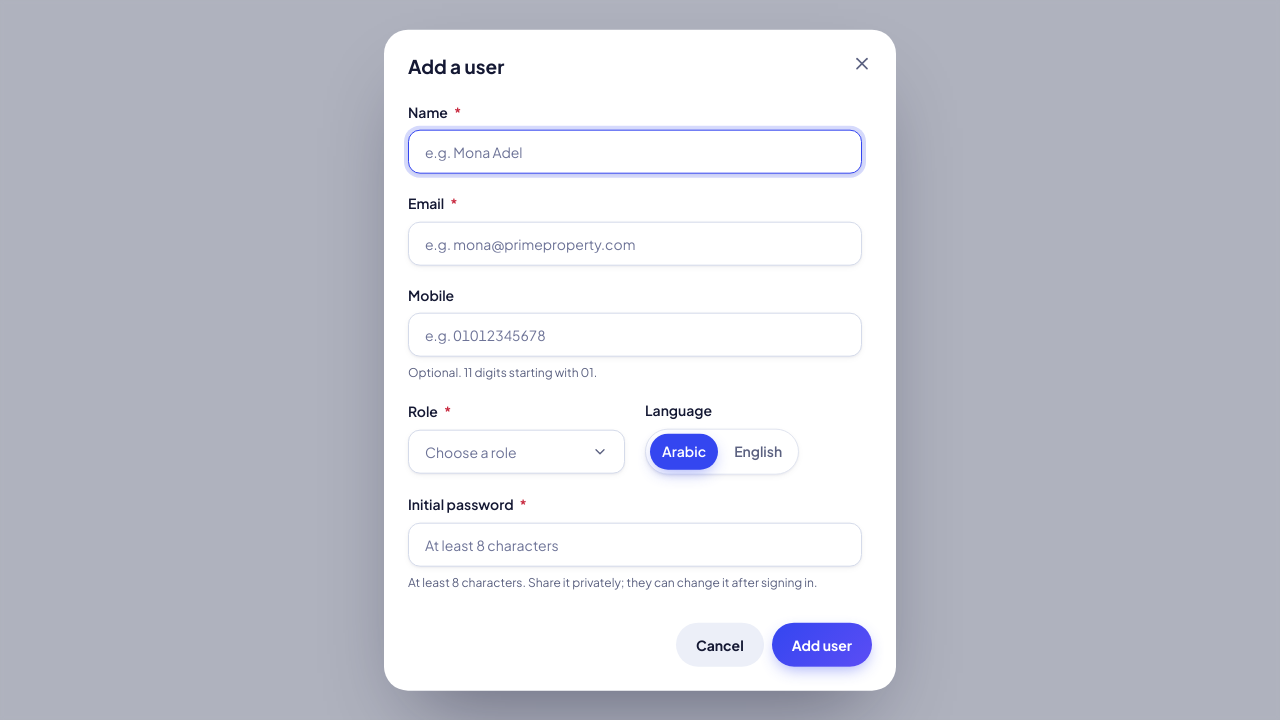
Test: Create user › never takes a 12th digit or a prefix other than 01
In the field with test id "user-phone": (635, 335) [408,313,862,357], type "010123456789"
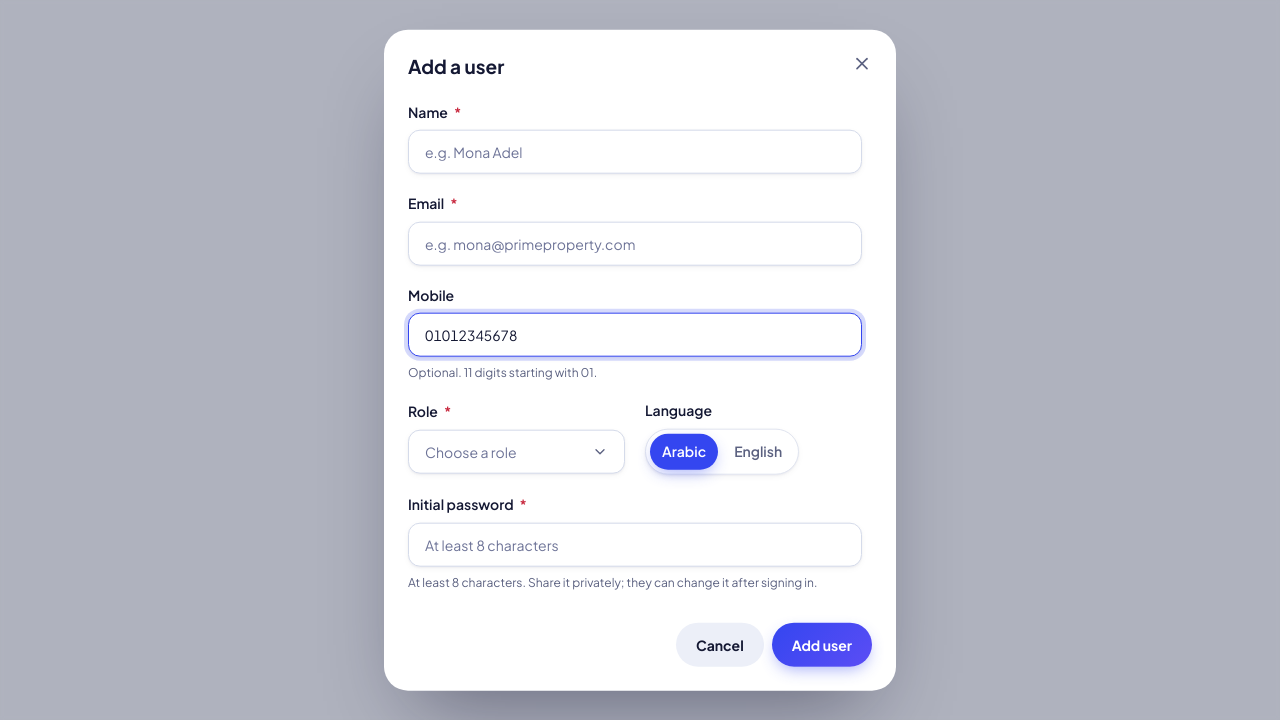
Now the field with test id "user-phone" holds "01012345678"
Replace the text in the field with test id "user-phone" with "05": (635, 335) [408,313,862,357]
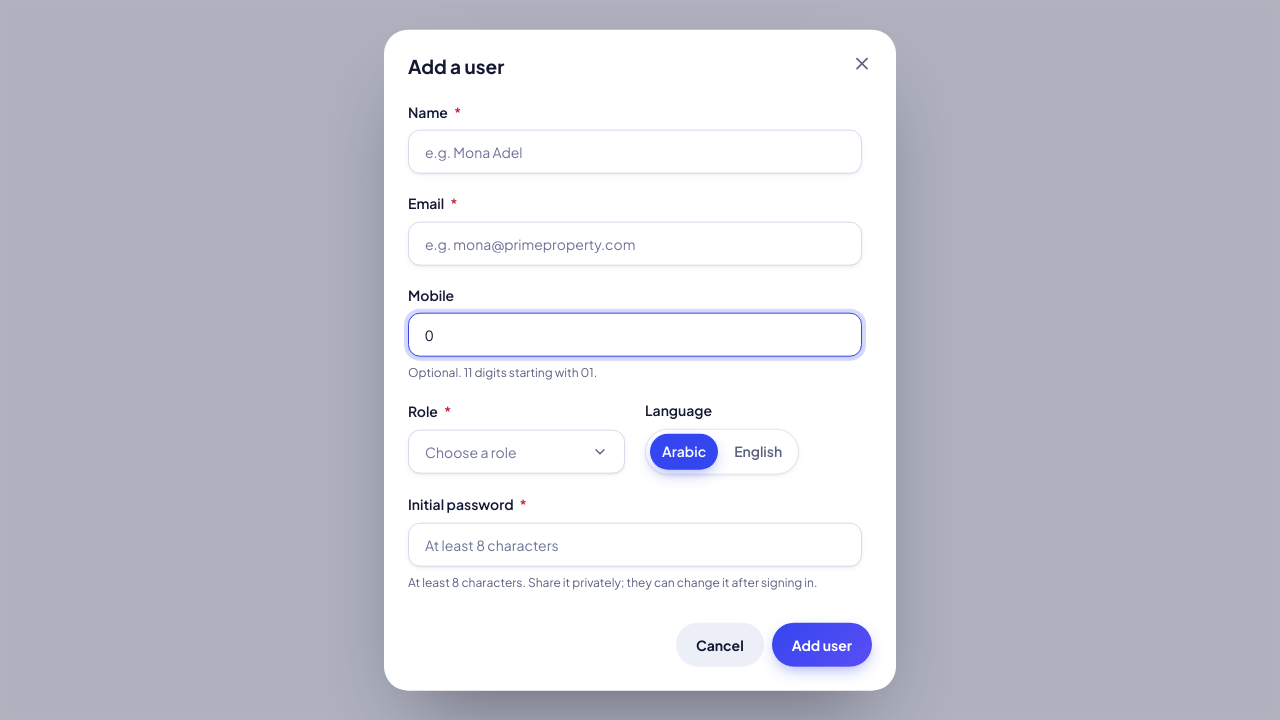
Now the field with test id "user-phone" holds "0", box [408,313,862,357]
